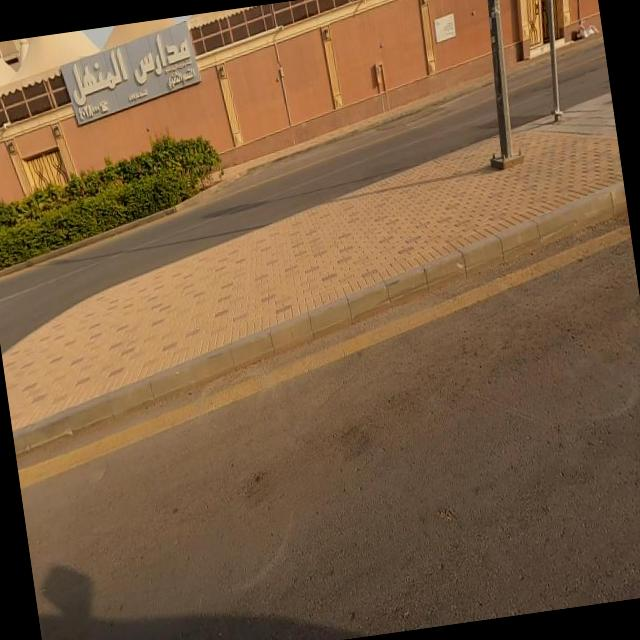debris: (559, 4, 606, 59)
